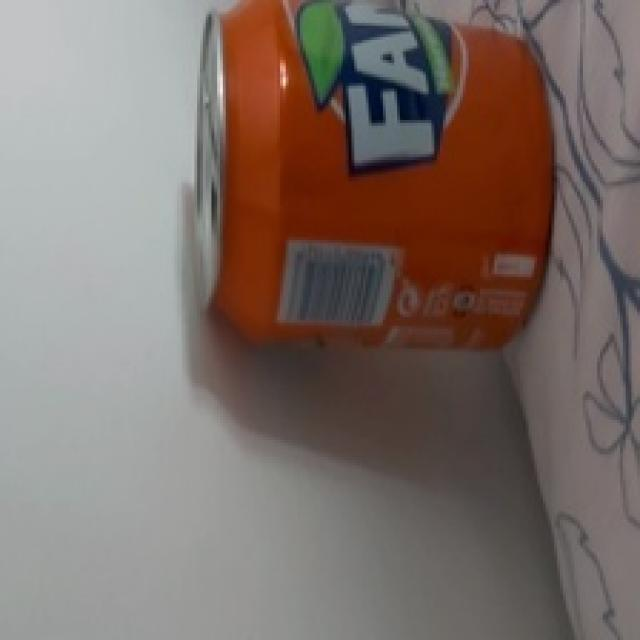recyclable: (190, 0, 556, 353)
